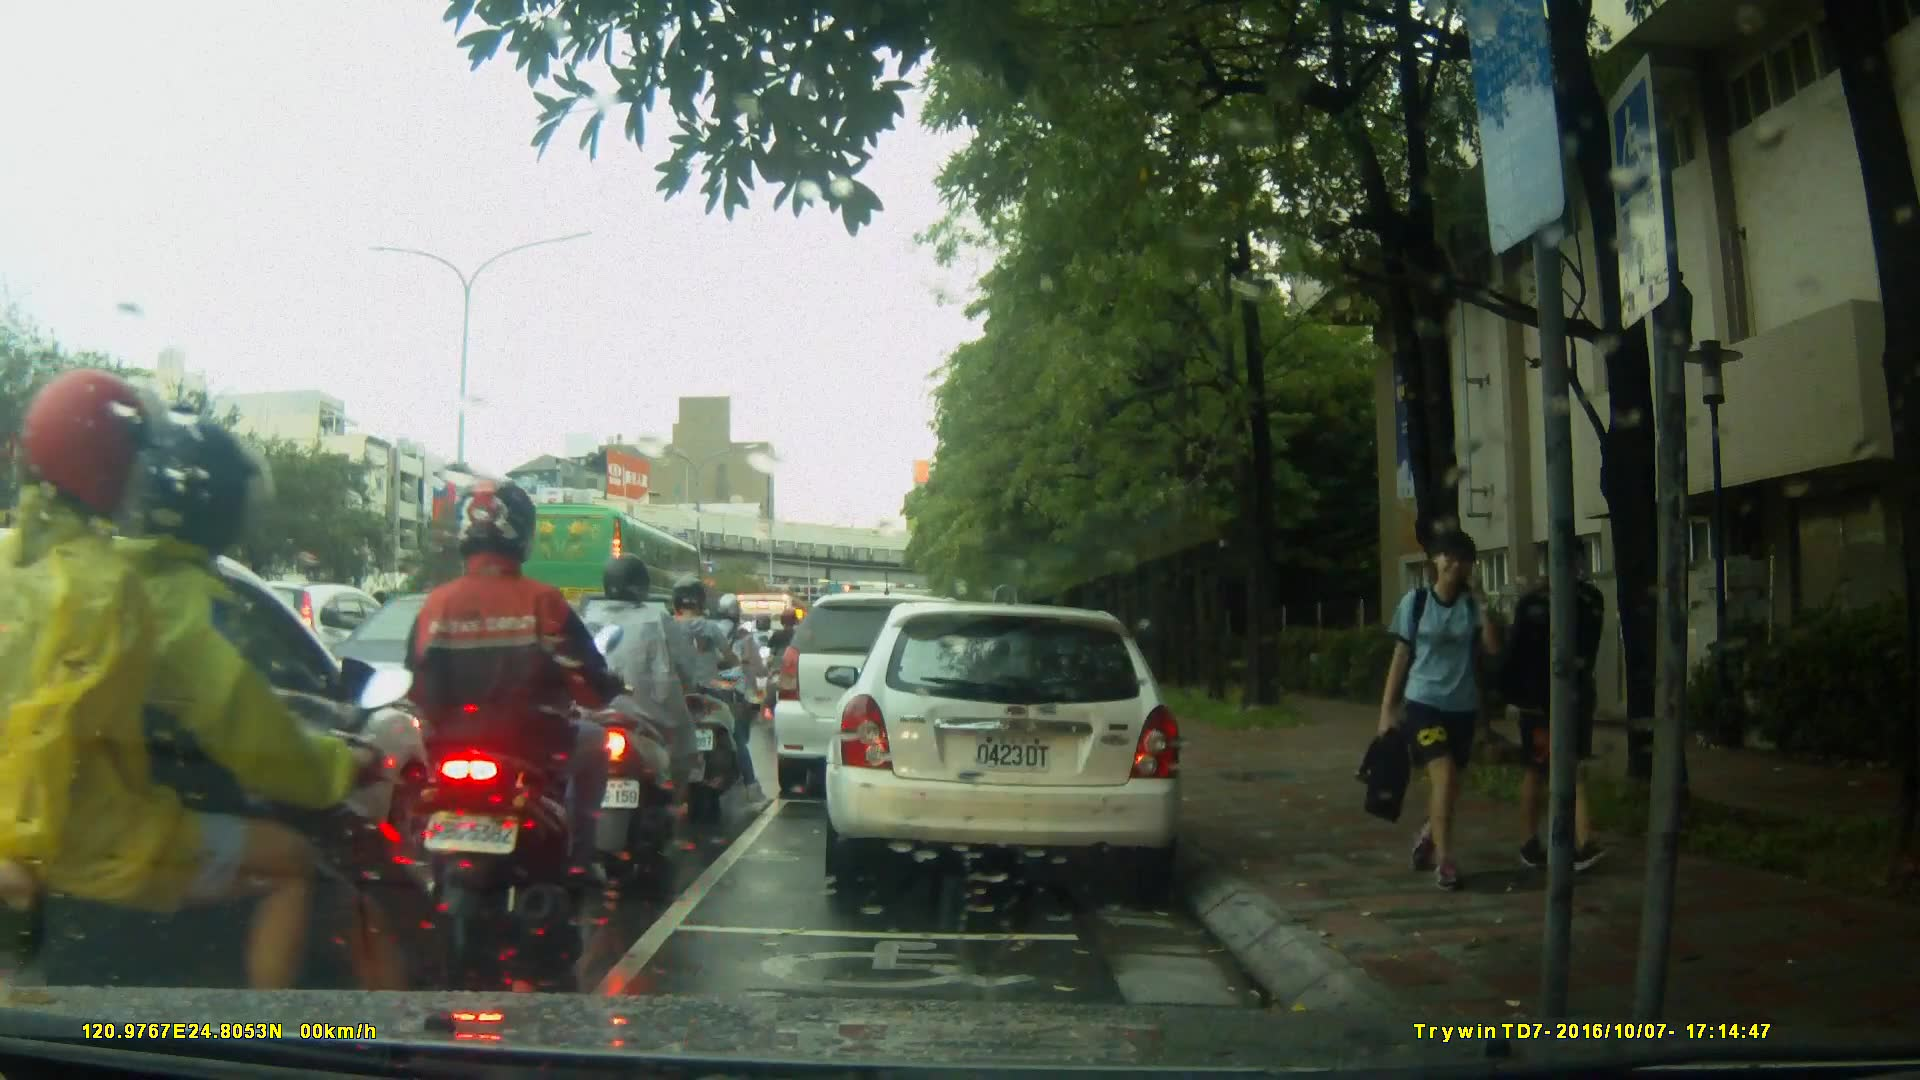pedestrian: (1350, 527, 1515, 888), (1503, 530, 1630, 887)
rider: (1, 359, 419, 1080), (402, 471, 638, 981), (568, 553, 734, 881), (653, 571, 742, 812), (702, 591, 776, 754), (767, 601, 812, 719)
vehicle: (1, 530, 455, 988), (831, 592, 1196, 897), (322, 590, 629, 776), (770, 590, 999, 803), (495, 502, 707, 636)
